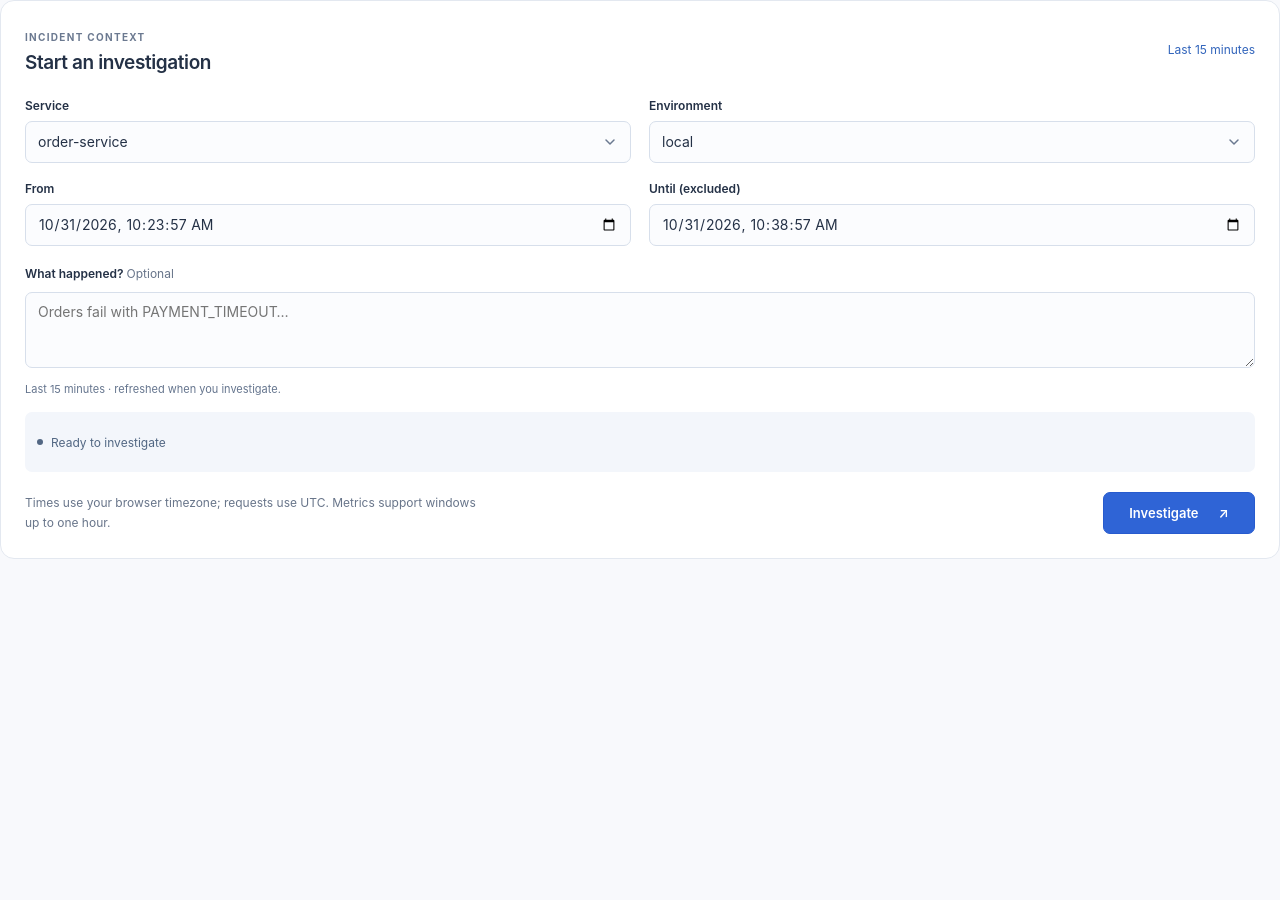
investigation form › announces validation failure and focuses a missing date before sending a request
This screenshot has width=1280, height=900.
Clear the field labelled "From" at (328, 225), box top-left (25, 204), bottom-right (631, 246)
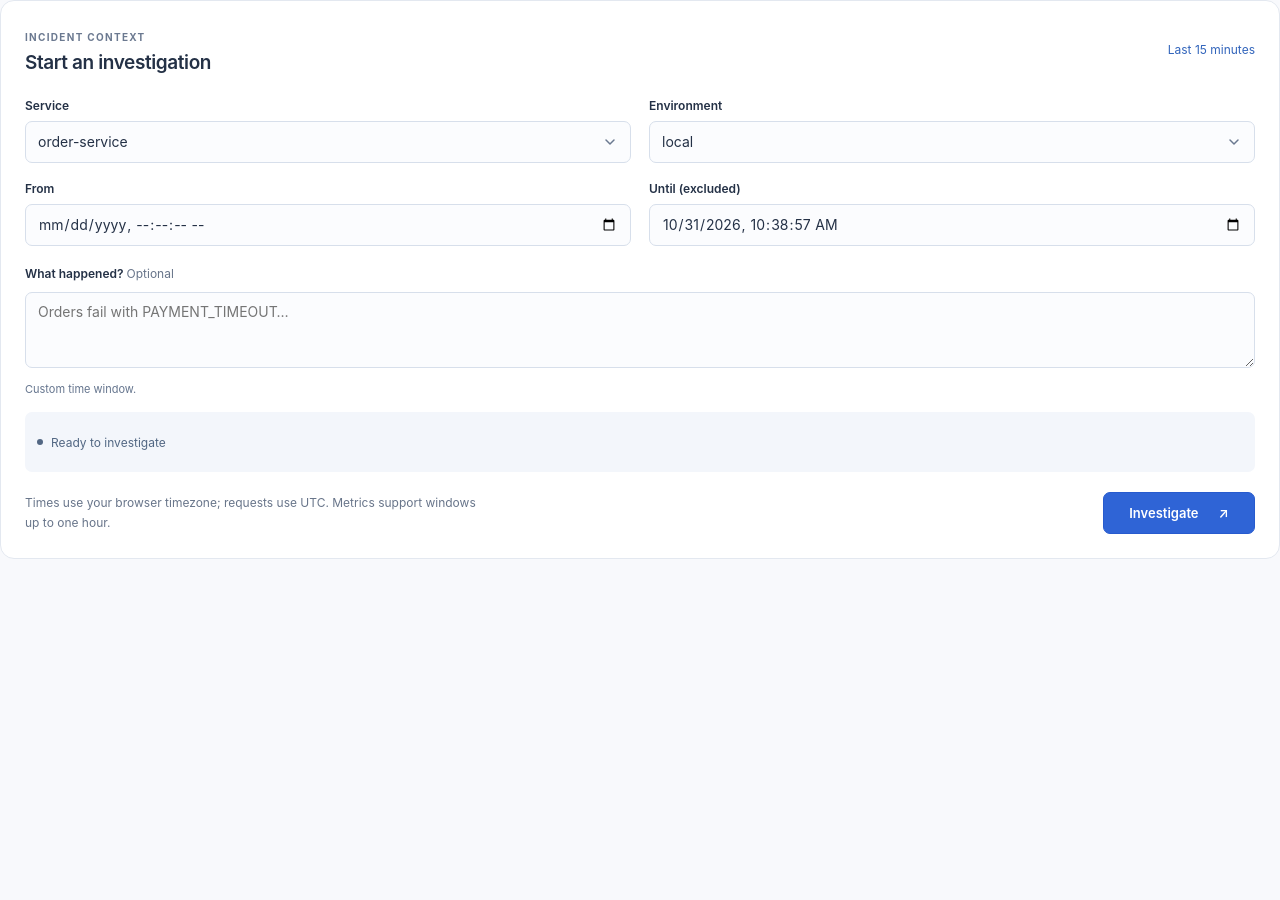
Click the button "Investigate ↗" at (1179, 513), box top-left (1103, 492), bottom-right (1255, 534)
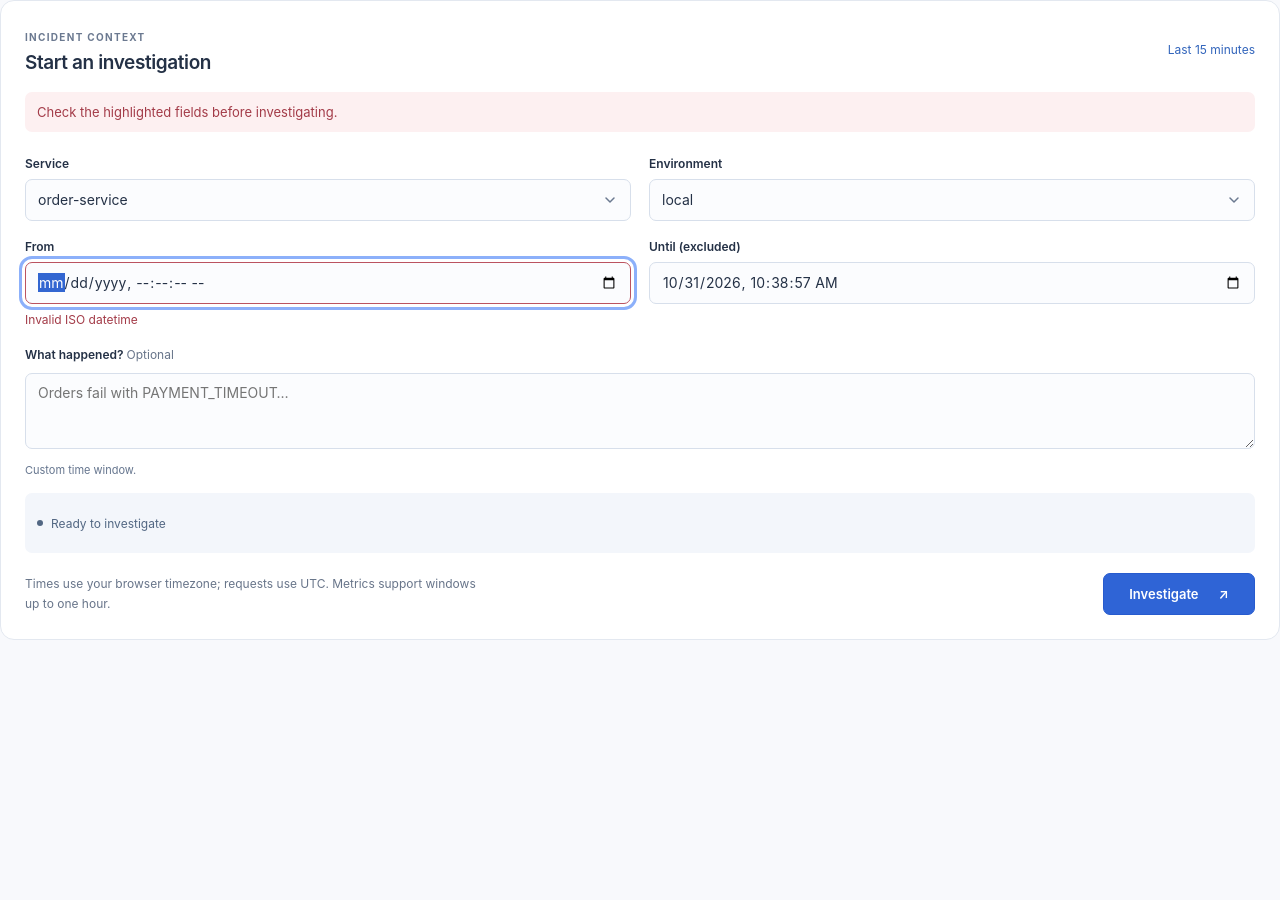
expect the message "Check the highlighted fields before investigating." is shown: met, box top-left (25, 92), bottom-right (1255, 132)
